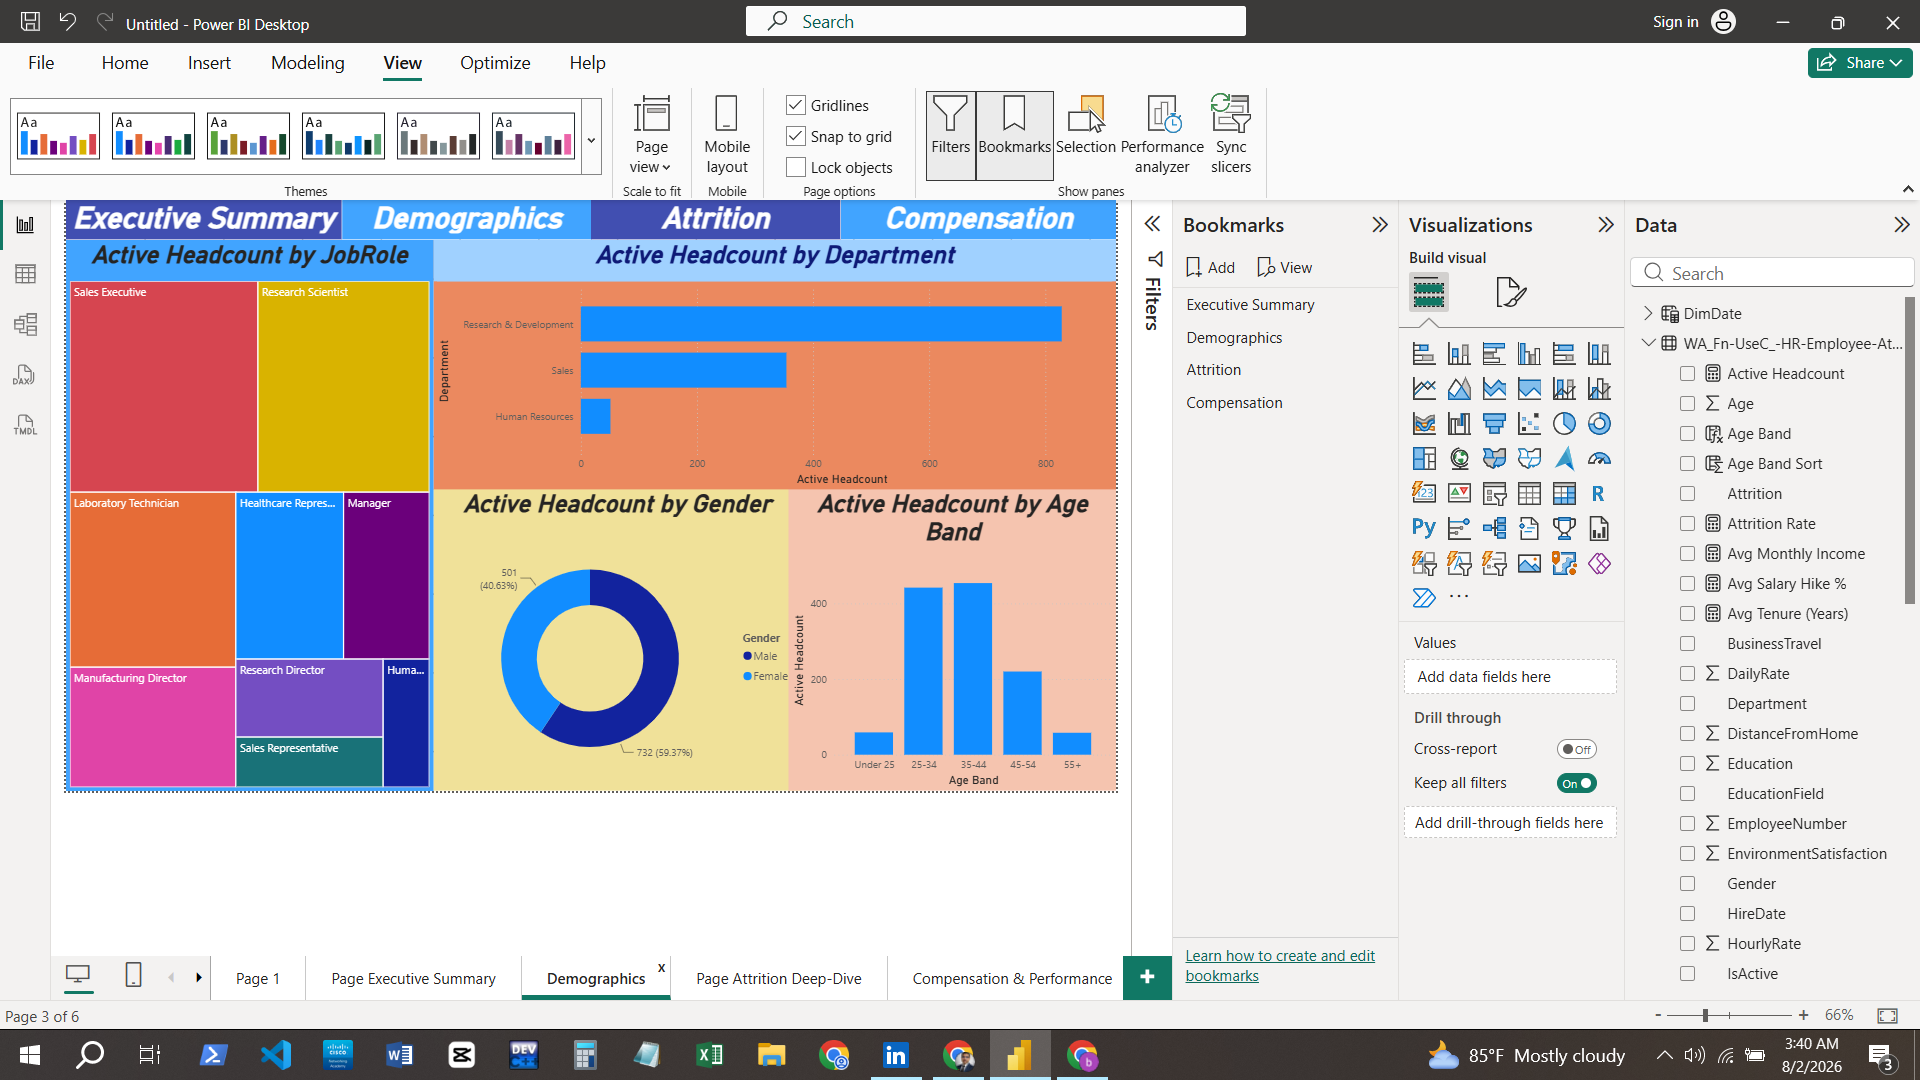

The dashboard page shown, as its layout file describes it:
{"tool":"powerbi","page":{"name":"Demographics","canvas":[1280,720],"ordinal":1},"visuals":[{"type":"donutChart","fields":{"Category":["WA_Fn-UseC_-HR-Employee-Attrition.Gender"],"Y":["WA_Fn-UseC_-HR-Employee-Attrition.Active Headcount"]},"box":[448,352,448,368],"z":0},{"type":"clusteredColumnChart","fields":{"Category":["WA_Fn-UseC_-HR-Employee-Attrition.Age Band"],"Y":["WA_Fn-UseC_-HR-Employee-Attrition.Active Headcount"]},"box":[880,352,400,368],"z":1000},{"type":"clusteredBarChart","fields":{"Category":["WA_Fn-UseC_-HR-Employee-Attrition.Department"],"Y":["WA_Fn-UseC_-HR-Employee-Attrition.Active Headcount"]},"box":[448,48,832,304],"z":2000},{"type":"treemap","fields":{"Group":["WA_Fn-UseC_-HR-Employee-Attrition.JobRole"],"Values":["WA_Fn-UseC_-HR-Employee-Attrition.Active Headcount"]},"box":[0,48,448,672],"z":3000},{"type":"actionButton","title":"Executive Summary","box":[0,0,336,48],"z":4000},{"type":"actionButton","title":"Demographics","box":[336,0,304,48],"z":5000},{"type":"actionButton","title":"Attrition","box":[640,0,304,48],"z":6000},{"type":"actionButton","title":"Compensation","box":[944,0,336,48],"z":7000}]}

Visuals, with their boxes on the page's 1280x720 design canvas (x1, y1, x2, y2). These are canvas units, not pixel positions in the 1920x1080 screenshot, which may show the page scaled, cropped or inside an application window:
donutChart - WA_Fn-UseC_-HR-Employee-Attrition.Gender x WA_Fn-UseC_-HR-Employee-Attrition.Active Headcount: l=448, t=352, r=896, b=720
clusteredColumnChart - WA_Fn-UseC_-HR-Employee-Attrition.Age Band x WA_Fn-UseC_-HR-Employee-Attrition.Active Headcount: l=880, t=352, r=1280, b=720
clusteredBarChart - WA_Fn-UseC_-HR-Employee-Attrition.Department x WA_Fn-UseC_-HR-Employee-Attrition.Active Headcount: l=448, t=48, r=1280, b=352
treemap - WA_Fn-UseC_-HR-Employee-Attrition.JobRole x WA_Fn-UseC_-HR-Employee-Attrition.Active Headcount: l=0, t=48, r=448, b=720
"Executive Summary" actionButton: l=0, t=0, r=336, b=48
"Demographics" actionButton: l=336, t=0, r=640, b=48
"Attrition" actionButton: l=640, t=0, r=944, b=48
"Compensation" actionButton: l=944, t=0, r=1280, b=48
